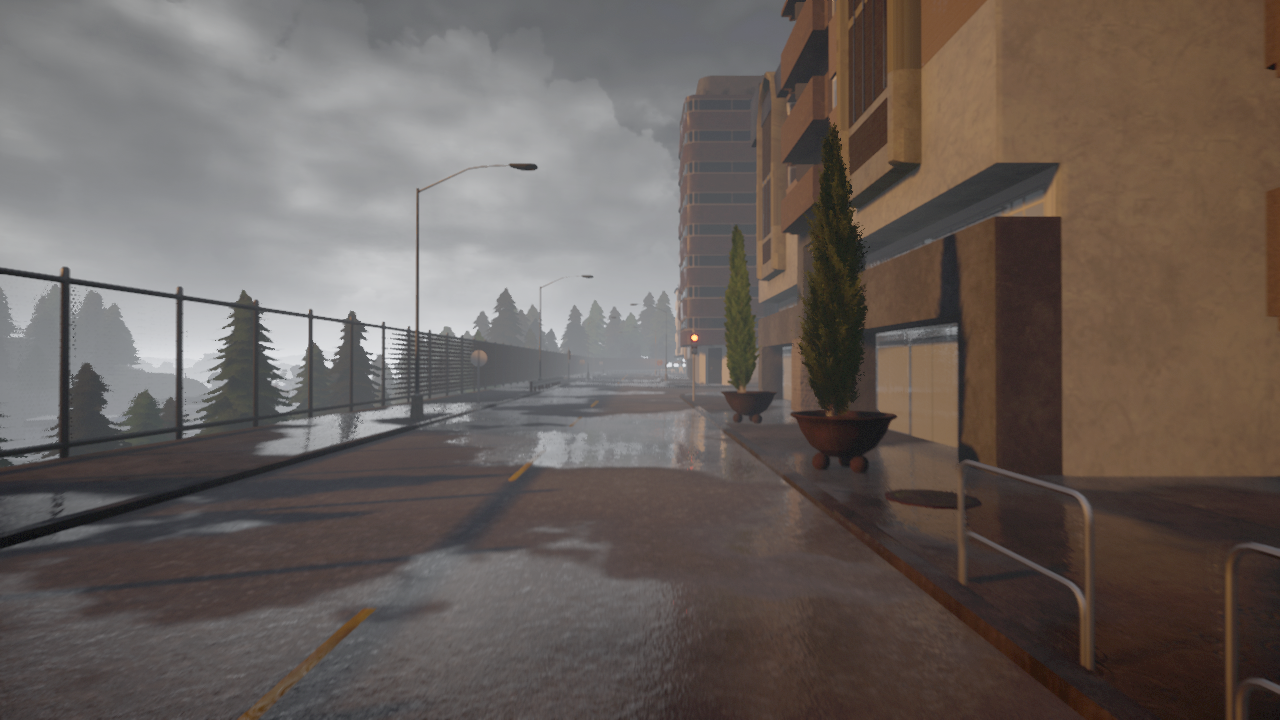red: (690, 333, 700, 356)
